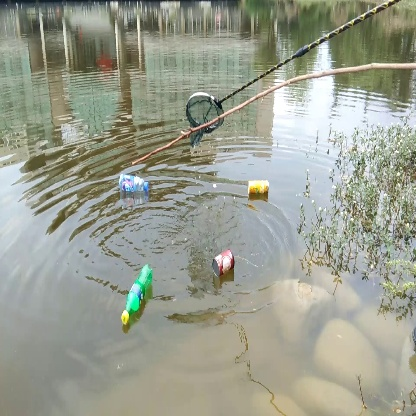bottle: (122, 263, 157, 327), (209, 248, 237, 282), (118, 173, 152, 197), (245, 178, 277, 199)
